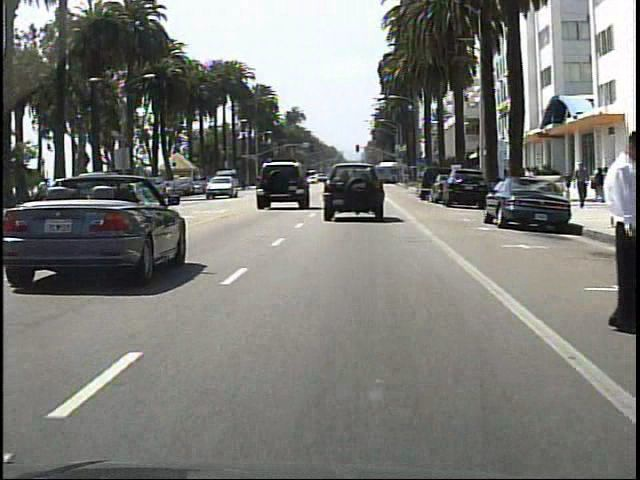person: (589, 124, 638, 330)
